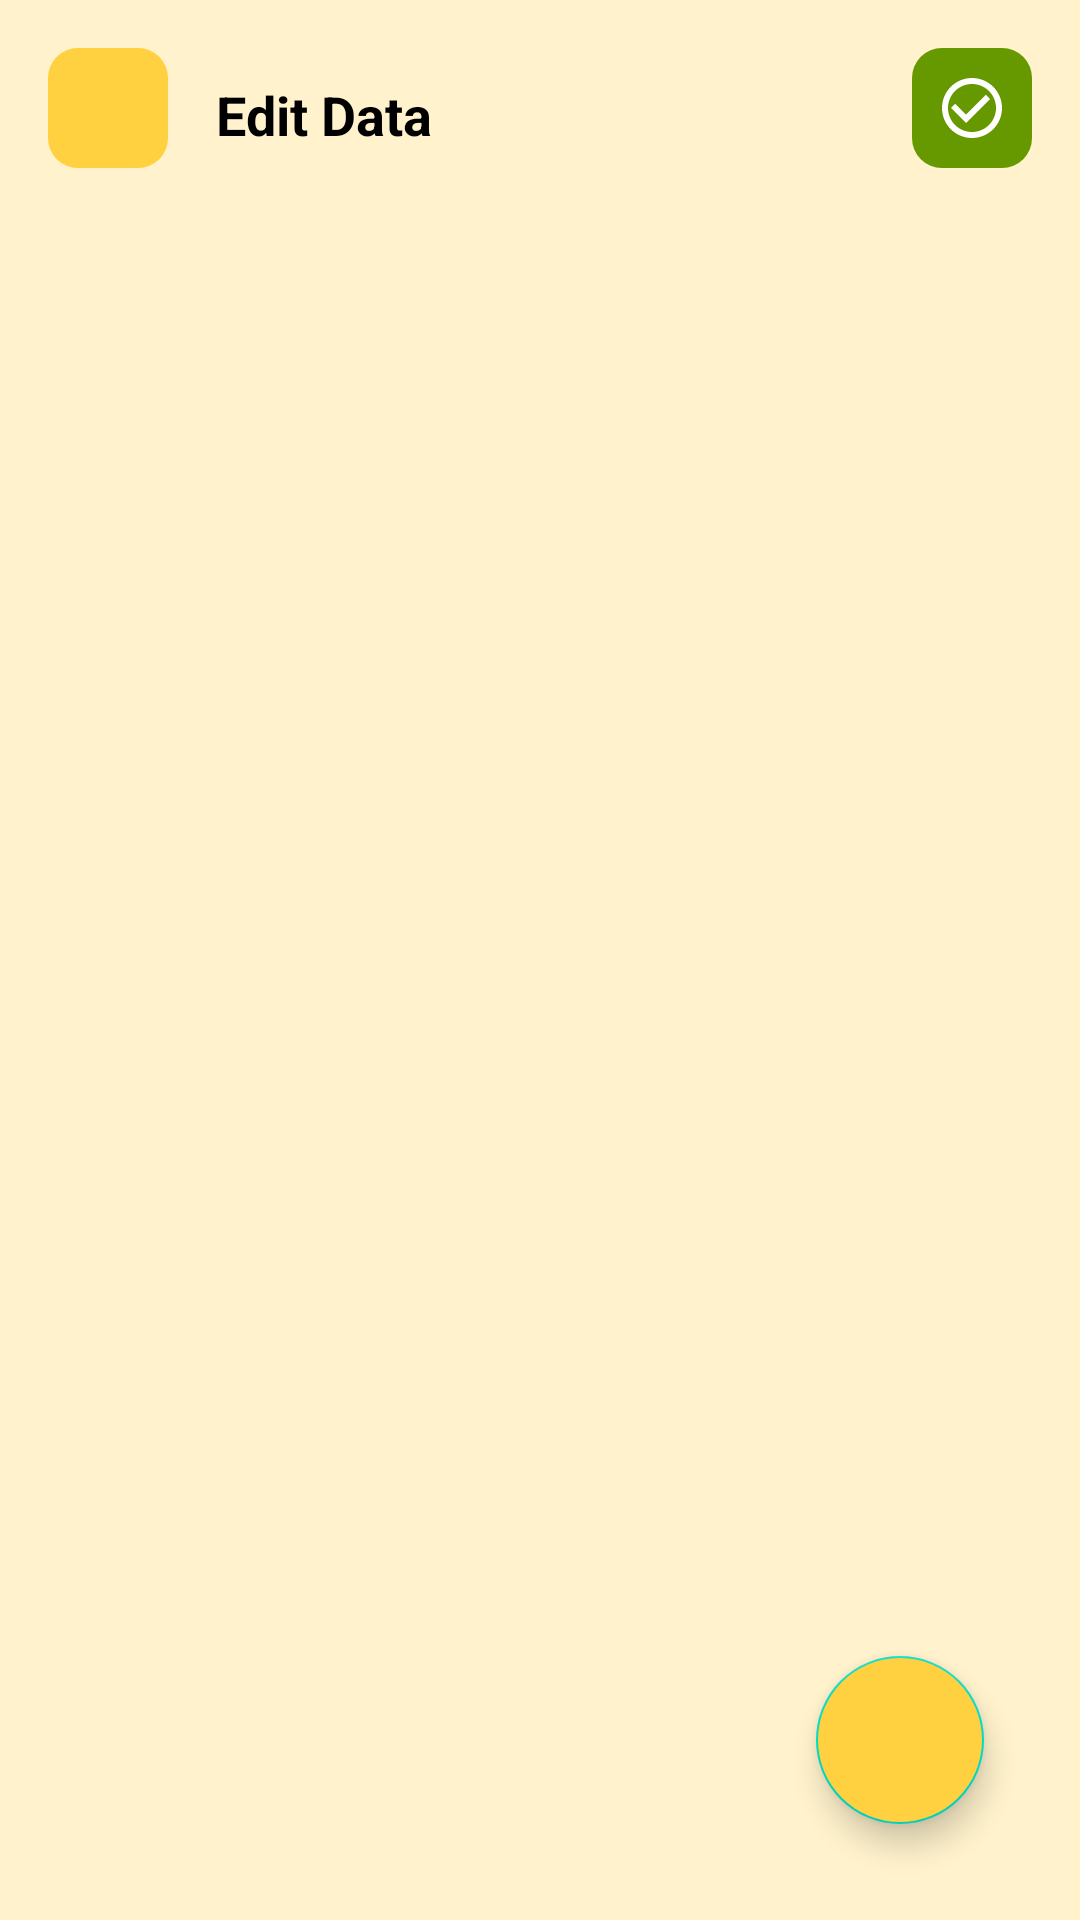

Where icons sit on this 1080 x 1920 app screen, as (x1, y1, x2, y2):
check circle: (912, 48, 1032, 168)
